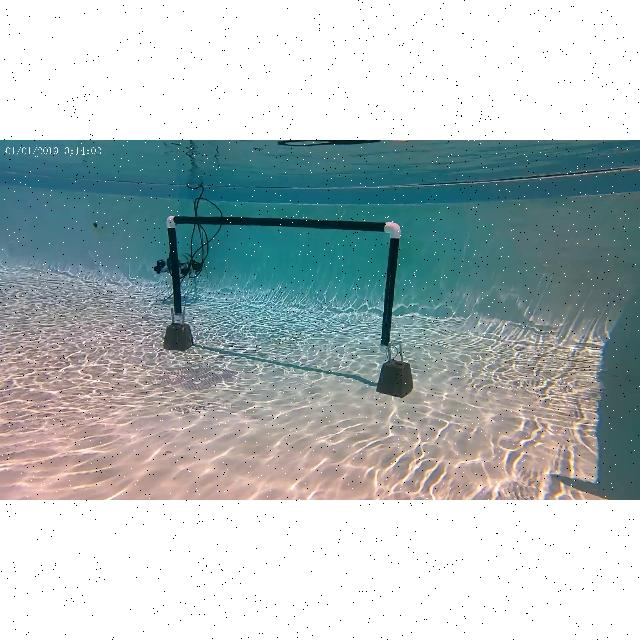prequal gate: (167, 215, 401, 353)
prequal gate leg l: (164, 213, 192, 329)
prequal gate leg r: (375, 218, 405, 364)
